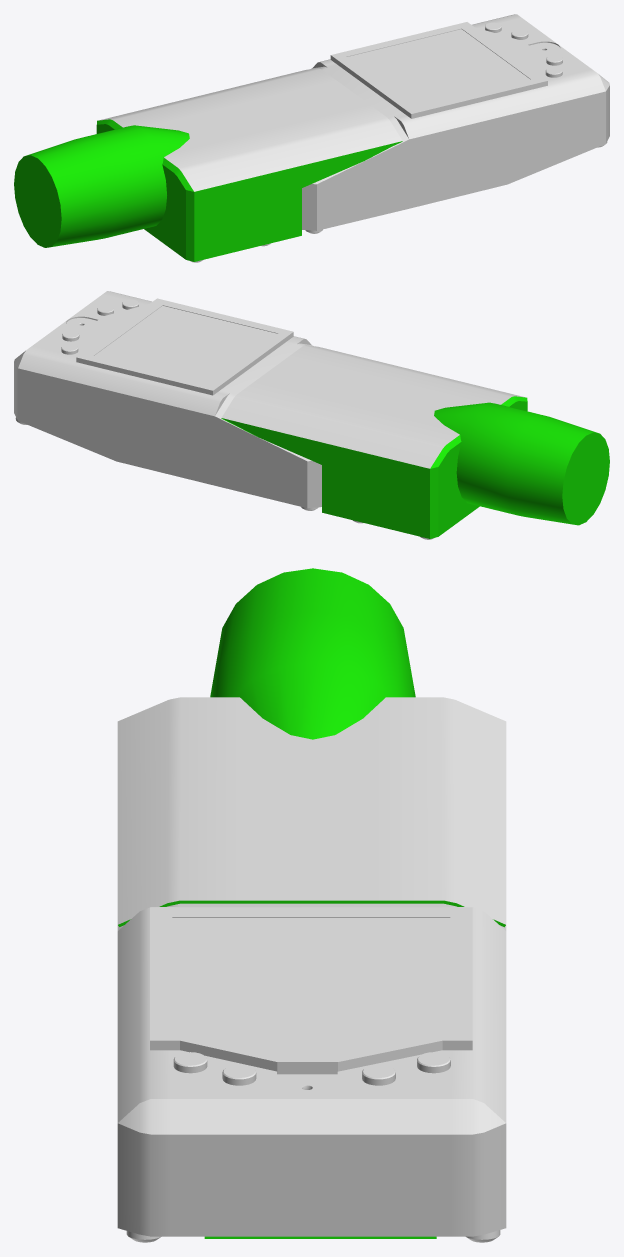
The model's file is GasMonitor.fbx.
3 renders of one model, top to bottom at view 1: azimuth 30°, elevation 25°; view 2: azimuth 150°, elevation 25°; view 3: azimuth 270°, elevation 25°, orthographic. The views are drawn at different scales.
Visible parts, largest first — view 1: Multi_gas_monitor, display glass; view 2: Multi_gas_monitor, display glass; view 3: Multi_gas_monitor, display glass.
Boxes of the visible parts, x1=… form: Multi_gas_monitor: x1=14, y1=14, x2=609, y2=262; display glass: x1=347, y1=29, x2=530, y2=107; Multi_gas_monitor: x1=14, y1=291, x2=609, y2=539; display glass: x1=94, y1=306, x2=277, y2=384; Multi_gas_monitor: x1=117, y1=568, x2=506, y2=1242; display glass: x1=172, y1=918, x2=450, y2=1029.
Bounding box in the file's own units: 0.2522 × 0.06 × 0.0799.
